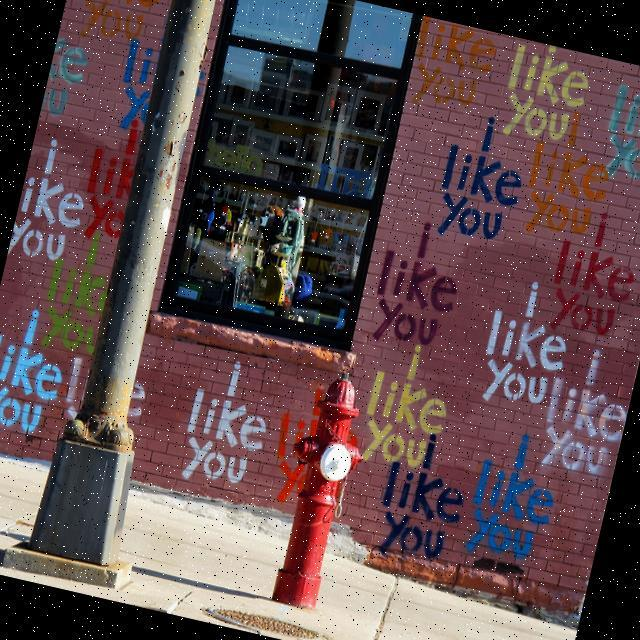fire_hydrant: (258, 362, 382, 616)
